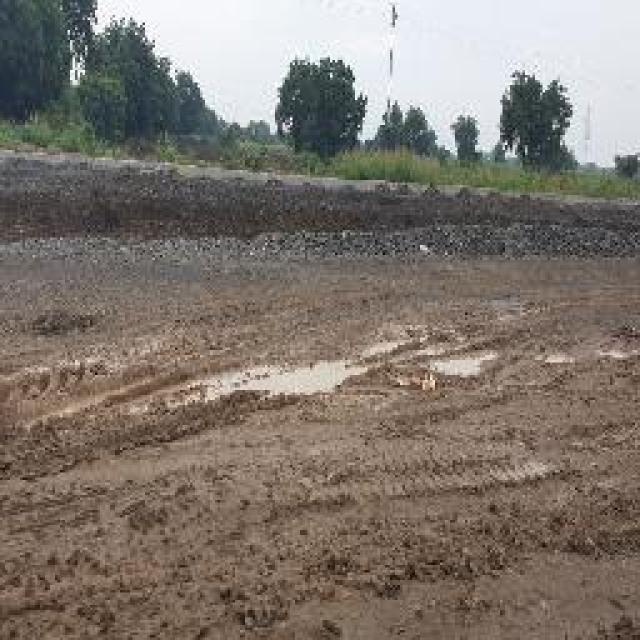waterlogging: (183, 333, 582, 392)
